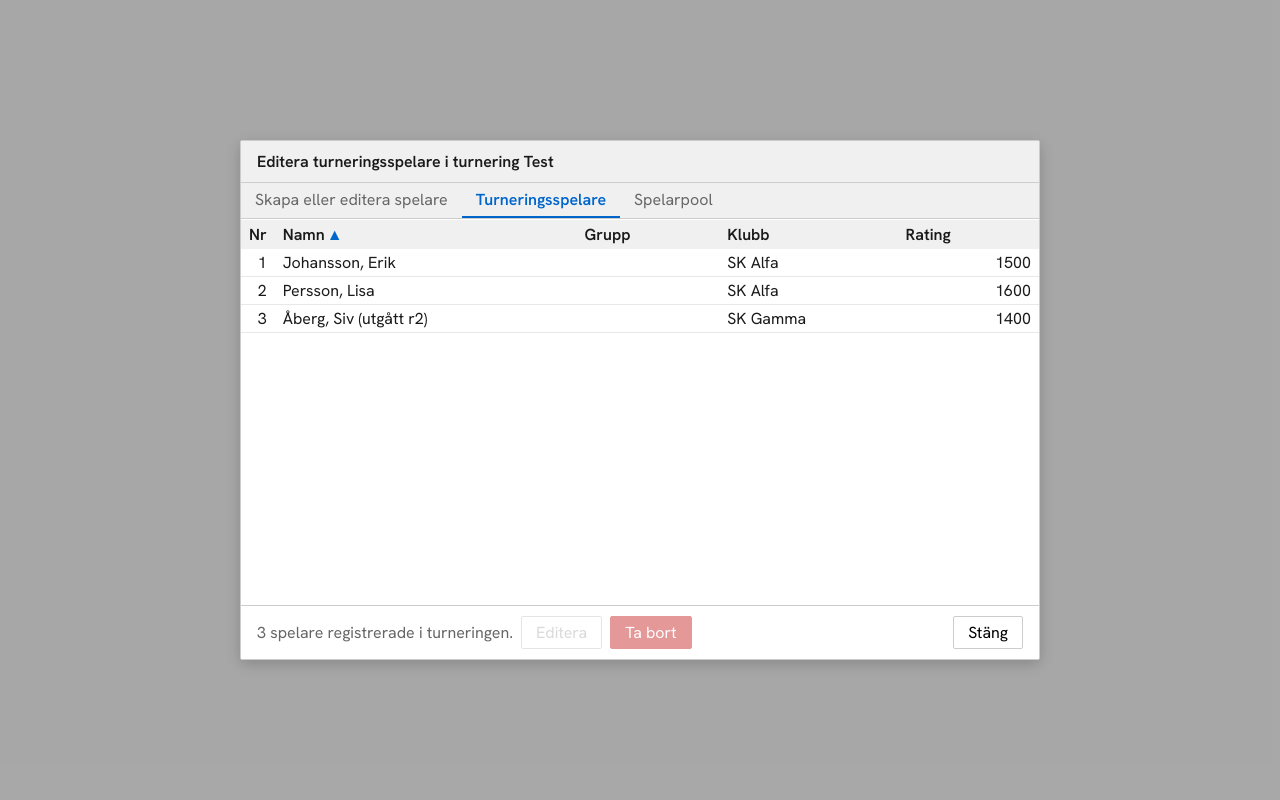
Scenario: TournamentPlayersDialog reset button › shows "Återställ" button label instead of "Ny spelare"
Click the button "Skapa eller editera spelare" at (351, 200), box [241,183,462,218]
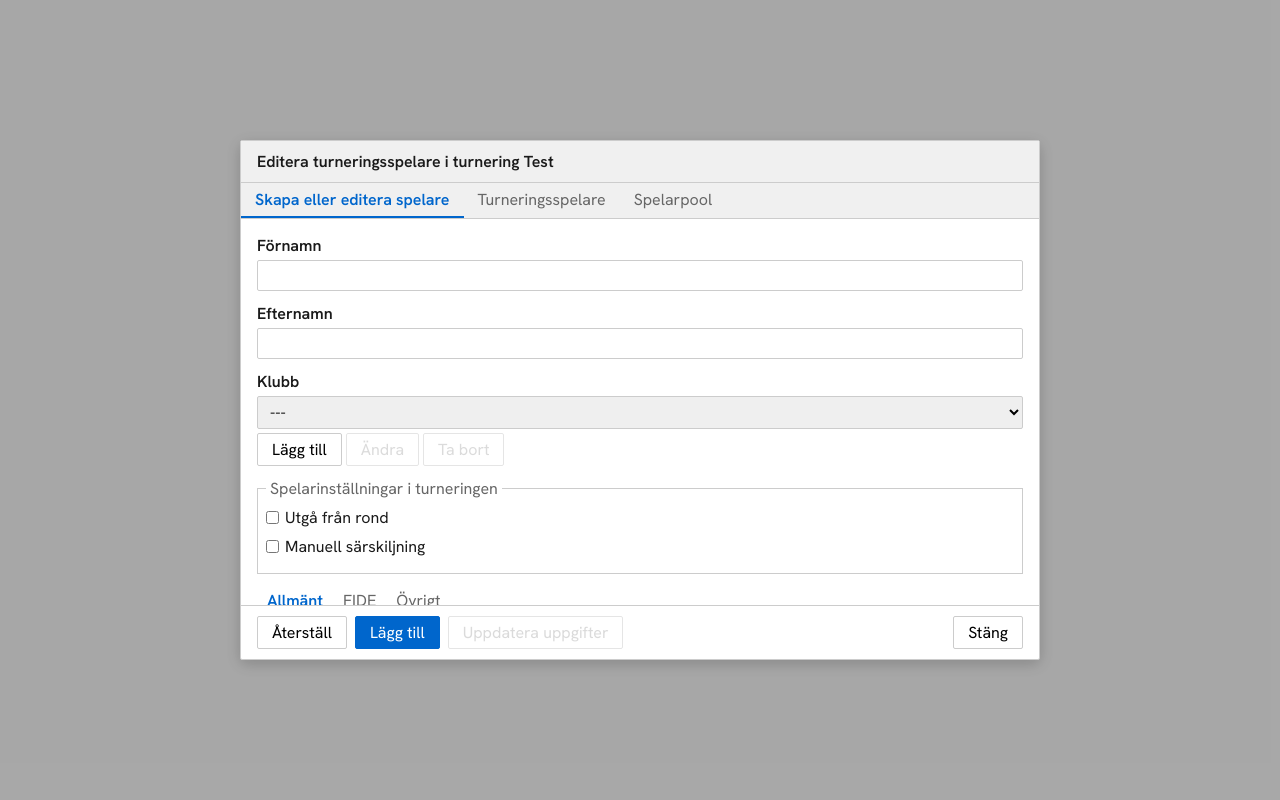
Result: the button "Återställ" is shown at [257,616,347,649]
